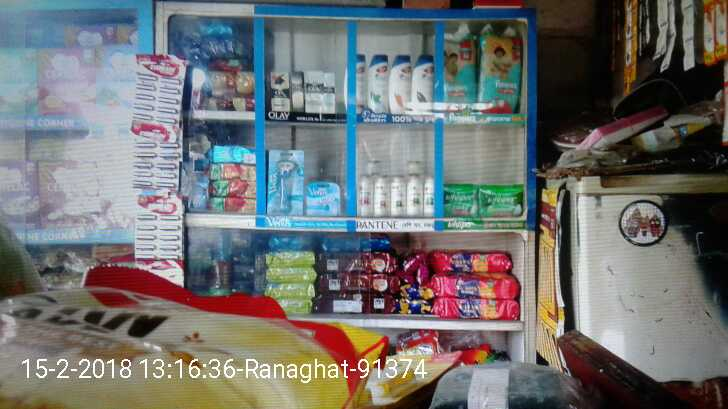venus: (269, 148, 306, 214), (306, 179, 341, 214)
